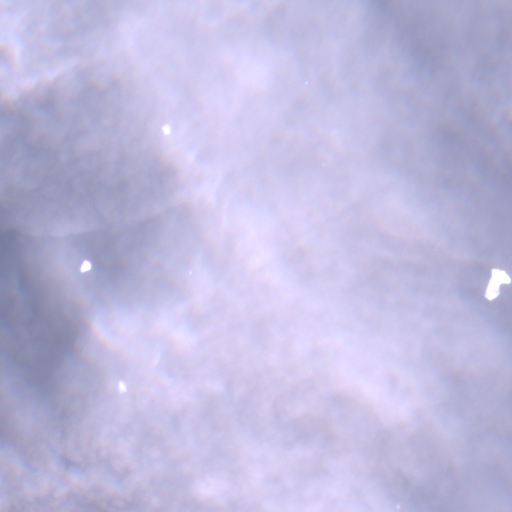Iceberg: (485, 269, 510, 299), (81, 261, 90, 272), (119, 381, 126, 392), (162, 125, 169, 134)
